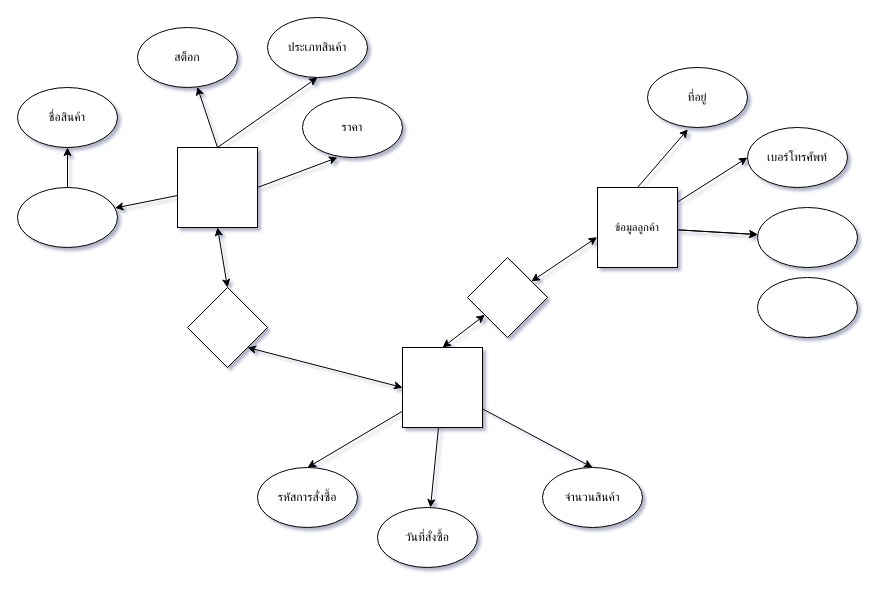
Image size: 881x591. Some labels were removed from this diagram. The shapes that lost their labels are listed below. From the top down, each one's centre as x and y in pixels, then its label:
At (x=217, y=187): "ข้อมูลสินค้า".
At (x=67, y=217): "รหัสสินค้า".
At (x=807, y=237): "ชื่อลูกค้า".
At (x=807, y=307): "รหัสลูกค้า".
At (x=442, y=387): "ข้อมูลการสั่งซื้อ".
